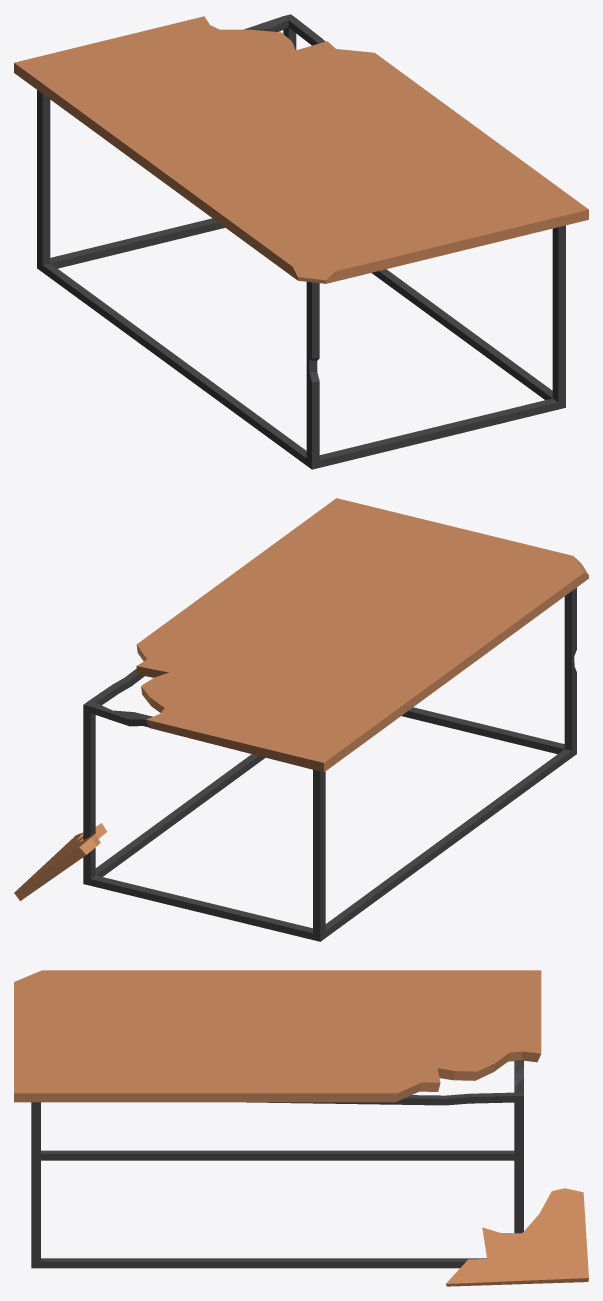
The model's file is столлом.fbx.
The picture shows the model from 3 angles, top to bottom: view 1: azimuth 30°, elevation 25°; view 2: azimuth 150°, elevation 25°; view 3: azimuth 270°, elevation 25°; orthographic projection. The views are drawn at different scales.
Visible parts, largest first — view 1: Cube.003, Cube.002; view 2: Cube.003, Cube.002, Cube.004; view 3: Cube.003, Cube.002, Cube.004.
Boxes of the visible parts, x1,y1,x2,y2 form: Cube.003: (14,16,588,283); Cube.002: (37,14,565,469); Cube.003: (136,498,588,772); Cube.002: (83,587,576,941); Cube.004: (14,823,107,900); Cube.003: (14,970,541,1102); Cube.002: (31,1060,523,1268); Cube.004: (445,1188,588,1286).
Size of the model in its own units: 465 by 281 by 810.
